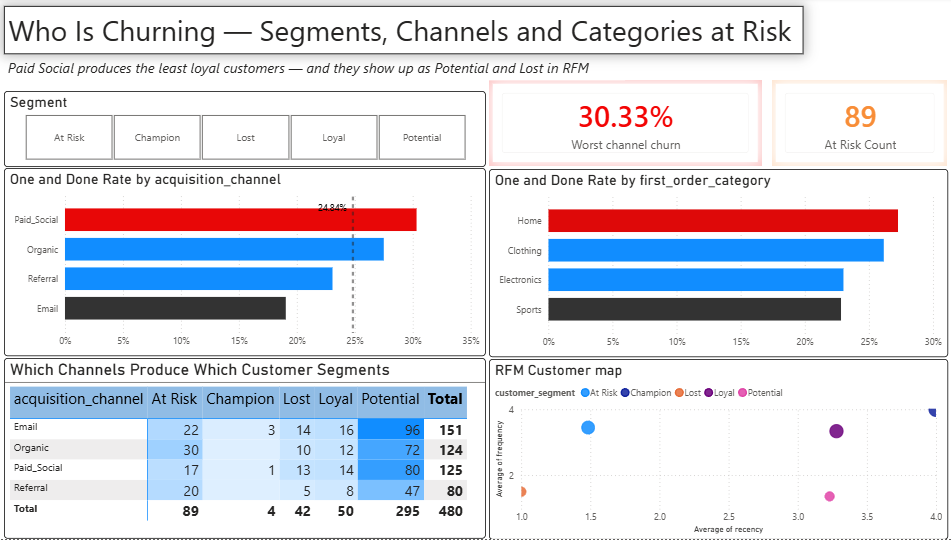

Layout of this report page (visuals, bound fields, positions):
{"tool":"powerbi","page":{"name":"Who is churning","canvas":[1280,720],"ordinal":3},"visuals":[{"type":"cardVisual","title":"Paid Social One-and-Done Rate","fields":{"Data":["dim_customers.Worst channel churn"]},"box":[655.1,110.9,362.8,114.2],"z":1000},{"type":"cardVisual","title":"Customers at Risk","fields":{"Data":["dim_customers.At Risk Count"]},"box":[1031.4,110.9,233.5,114.2],"z":2000},{"type":"clusteredBarChart","fields":{"Category":["dim_customers.acquisition_channel"],"Y":["fact_customer_orders.One and Done Rate"]},"box":[10.1,227.6,640,250.3],"z":3000},{"type":"clusteredBarChart","fields":{"Category":["fact_customer_orders.first_order_category"],"Y":["fact_customer_orders.One and Done Rate"]},"box":[655.1,228.5,609.8,250.3],"z":4000},{"type":"scatterChart","title":"RFM Customer map","fields":{"X":["Avg(rfm_segments.recency)"],"Y":["Avg(rfm_segments.frequency)"],"Size":["Avg(rfm_segments.monetary)"],"Series":["rfm_segments.customer_segment"]},"box":[655.1,480.4,609.8,240.2],"z":5000},{"type":"slicer","title":"Segment","fields":{"Values":["rfm_segments.customer_segment"]},"box":[10.1,124.3,640,100.8],"z":6000},{"type":"pivotTable","title":"Which Channels Produce Which Customer Segments","fields":{"Rows":["channel_rfm_breakdown.acquisition_channel"],"Columns":["channel_rfm_breakdown.customer_segment"],"Values":["Sum(channel_rfm_breakdown.customer_count)"]},"box":[10.1,479.8,640,240.2],"z":7000},{"type":"textbox","box":[10.1,75.6,824.8,35.3],"z":8000},{"type":"textbox","box":[10.1,11.8,1061.6,63.8],"z":8500}]}

Visuals, with their boxes in screenshot pixels (x1, y1, x2, y2), scaled from the page's 1280x720 canvas onto the 951x540 screenshot:
"Paid Social One-and-Done Rate" cardVisual: l=487, t=83, r=756, b=169
"Customers at Risk" cardVisual: l=766, t=83, r=940, b=169
clusteredBarChart - dim_customers.acquisition_channel x fact_customer_orders.One and Done Rate: l=8, t=171, r=483, b=358
clusteredBarChart - fact_customer_orders.first_order_category x fact_customer_orders.One and Done Rate: l=487, t=171, r=940, b=359
"RFM Customer map" scatterChart: l=487, t=360, r=940, b=539
"Segment" slicer: l=8, t=93, r=483, b=169
"Which Channels Produce Which Customer Segments" pivotTable: l=8, t=360, r=483, b=539
textbox: l=8, t=57, r=620, b=83
textbox: l=8, t=9, r=796, b=57
